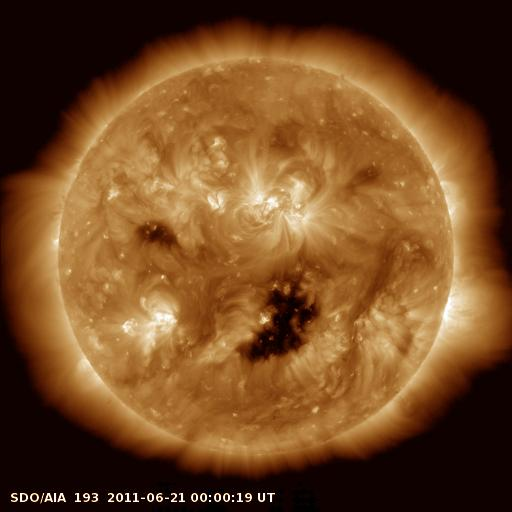coronal_hole: (239, 278, 325, 364), (132, 216, 182, 250)
